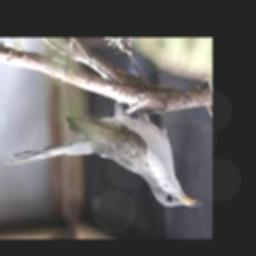Cuckoo: (3, 94, 201, 207)
